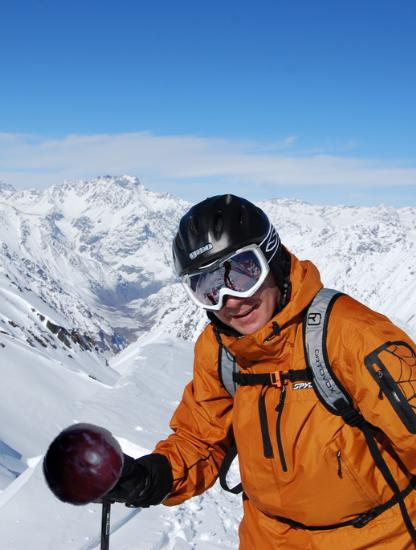Plum: (40, 422, 126, 508)
